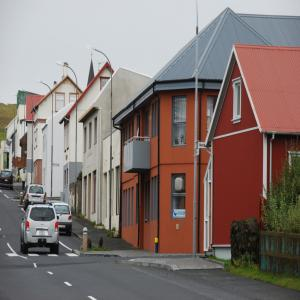Vehicle-registration-plate: (40, 231, 47, 237)
